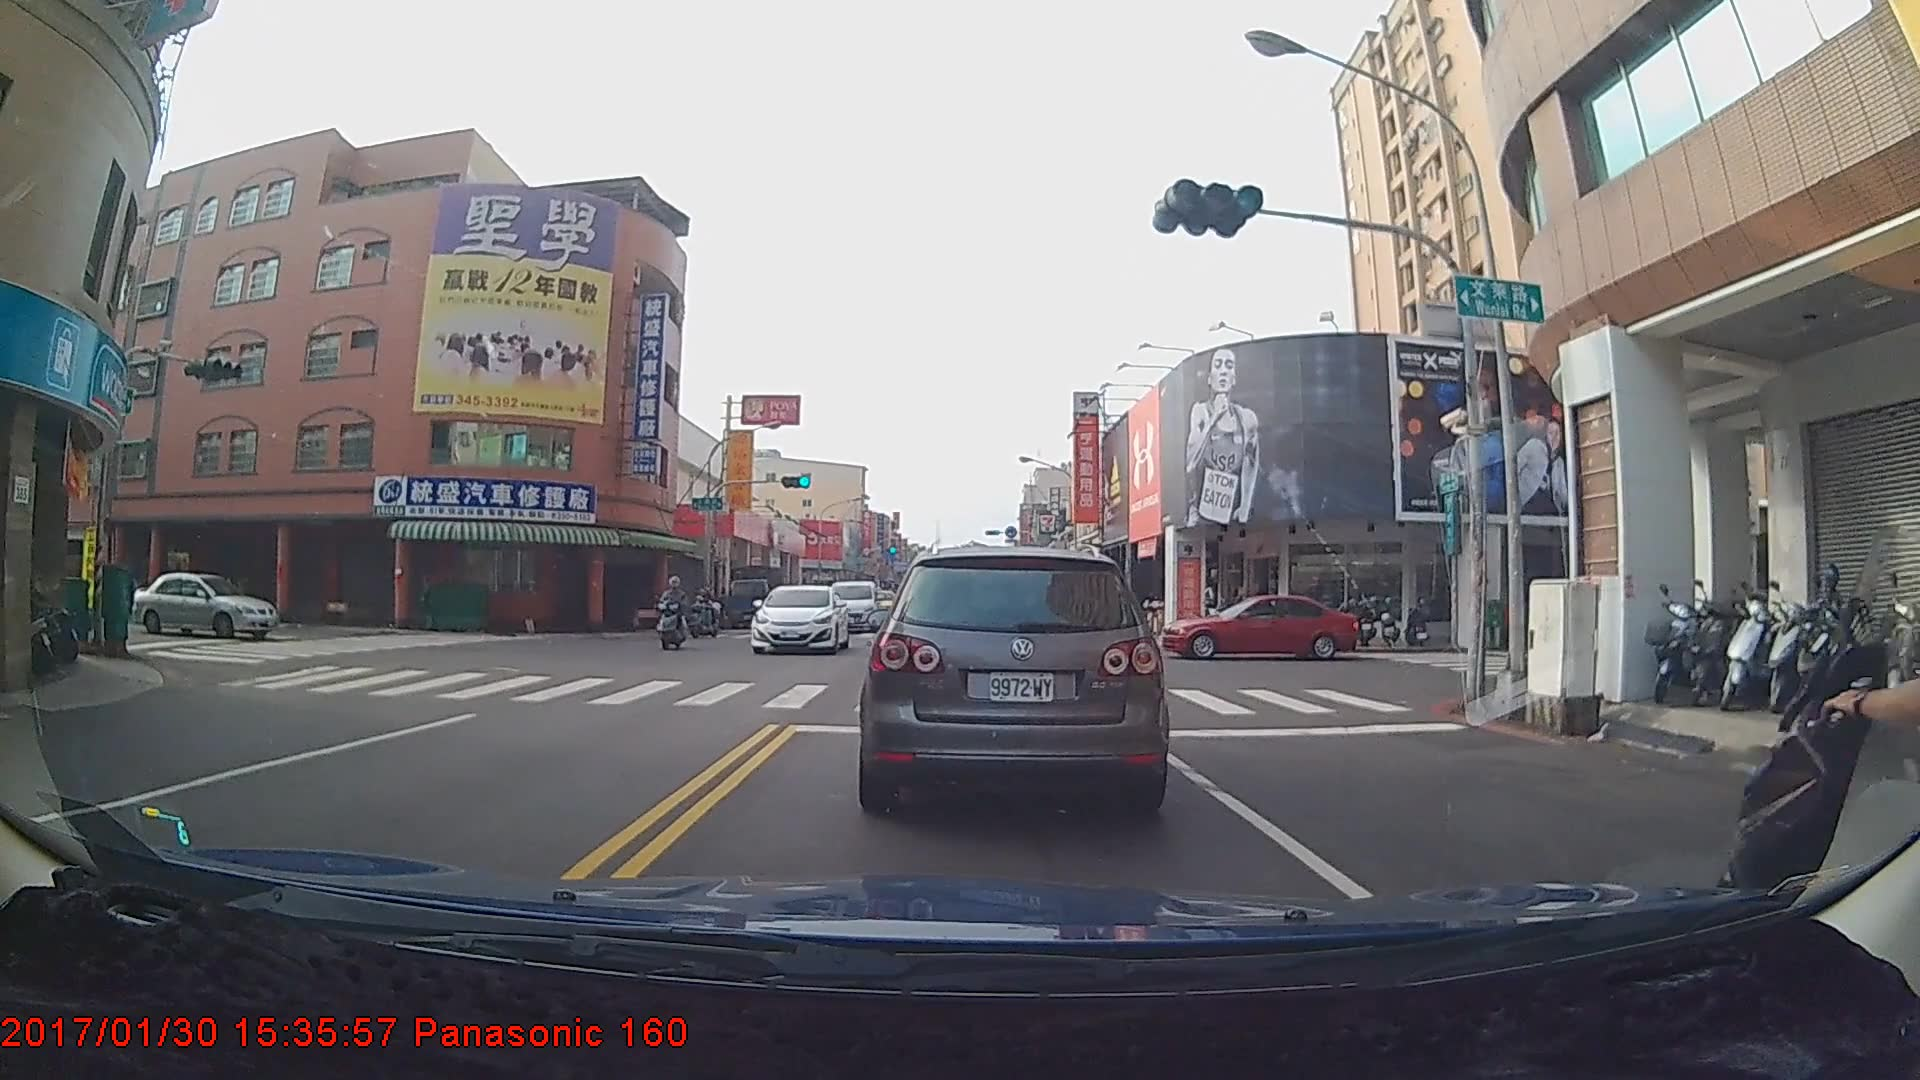rider: (656, 576, 694, 650), (689, 586, 730, 638)
vehicle: (864, 542, 1160, 815), (1163, 591, 1363, 663), (130, 570, 281, 640), (746, 584, 849, 656), (725, 563, 787, 629), (827, 579, 880, 633)
